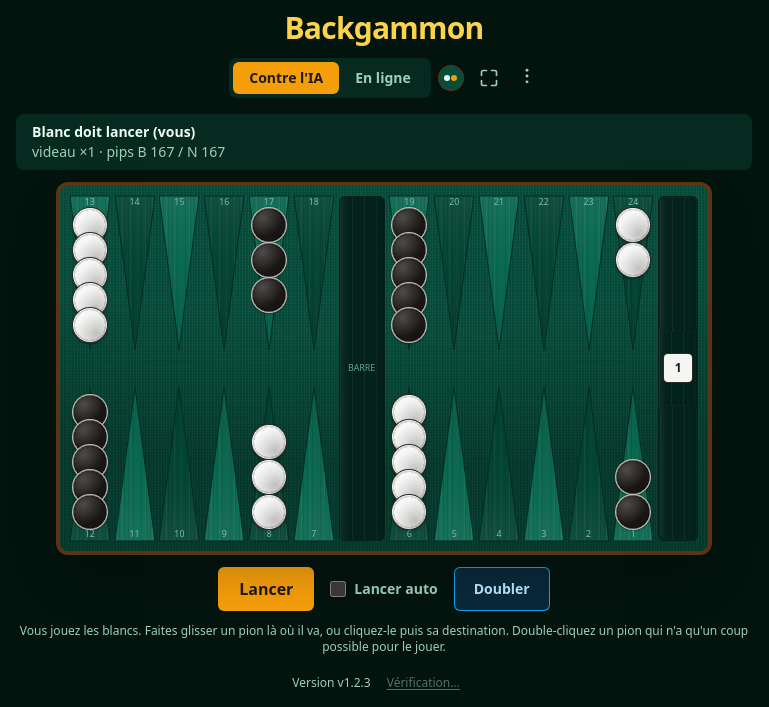
App › keeps the game against the AI across a trip online and back
Click the button "Lancer".
click(266, 589)  # box [218, 567, 314, 611]
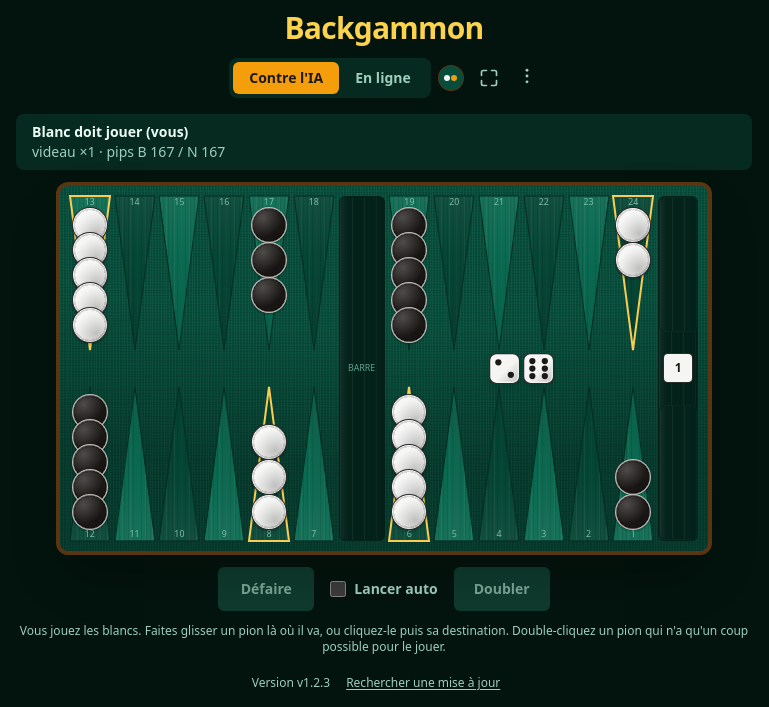
Check: the text "Blanc doit jouer (vous)" is shown, box [32, 122, 188, 141]
Click the button "En ligne".
click(383, 78)  # box [339, 62, 427, 94]
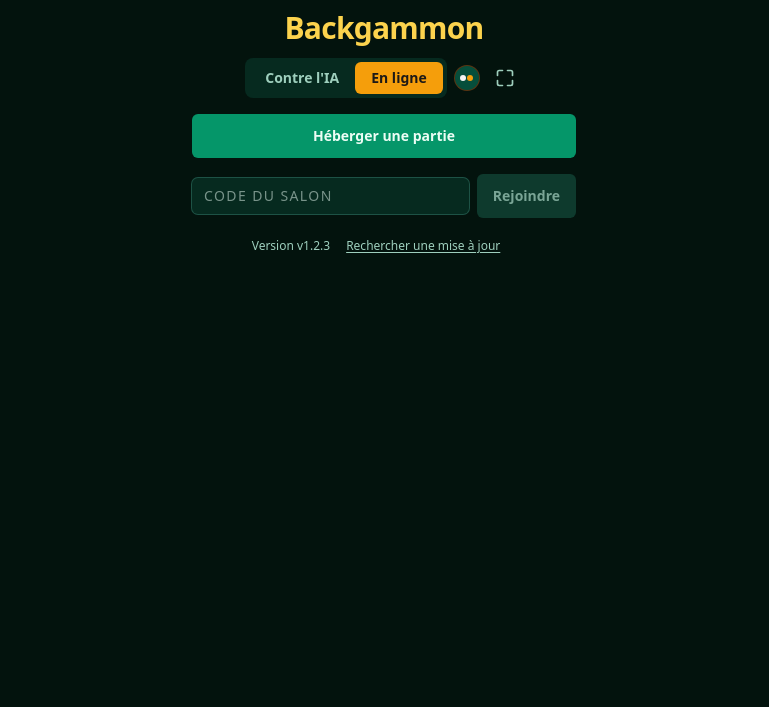
Click the button "Contre l'IA".
click(302, 78)  # box [249, 62, 355, 94]
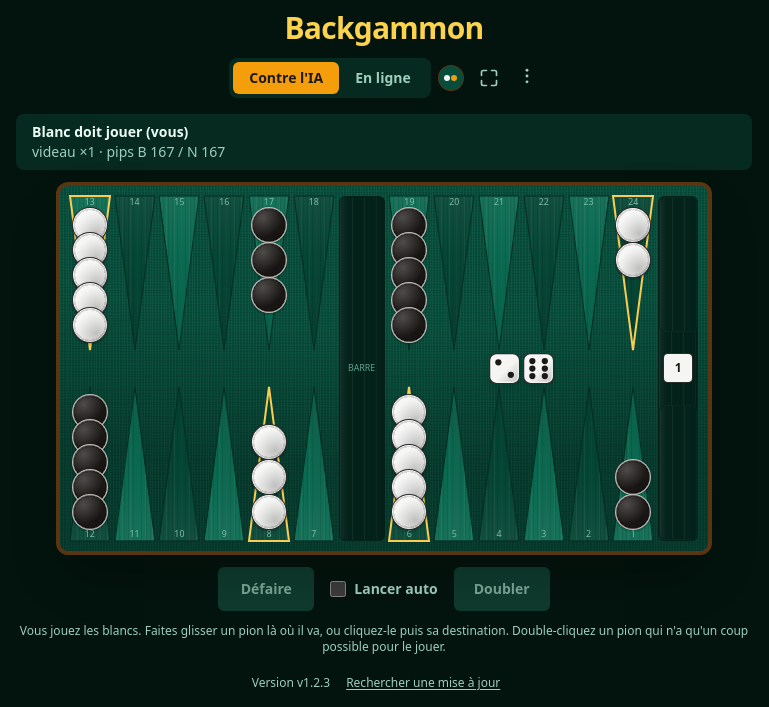
Check: the text "Blanc doit jouer (vous)" is shown, box [32, 122, 188, 141]
